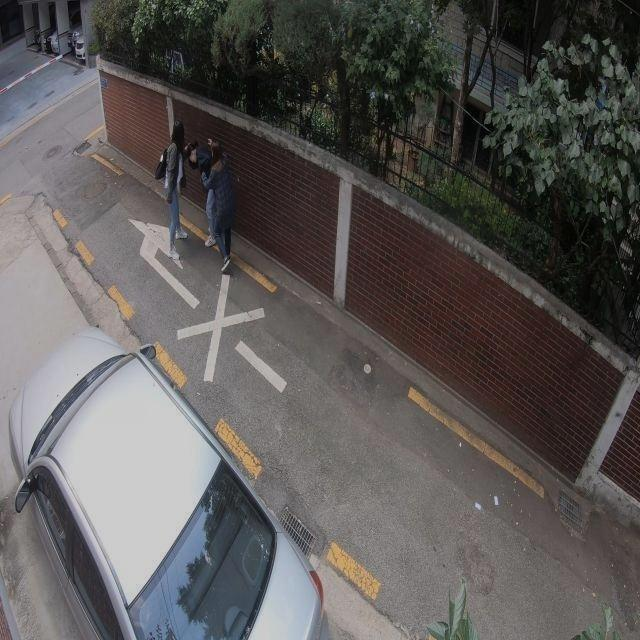fight: (156, 119, 234, 274)
